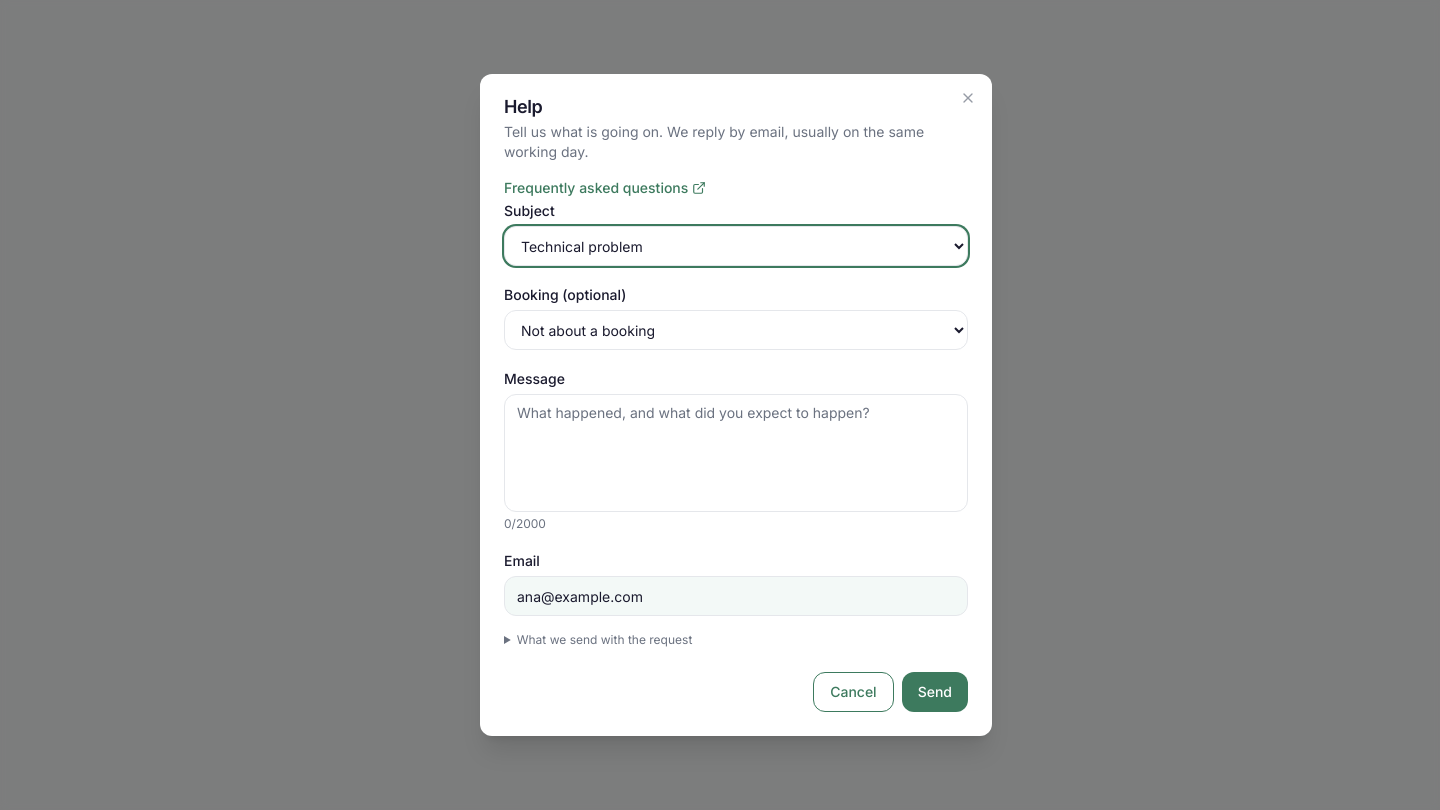
it: HelpDialog — in English (B65) › renders the English form, validation, booking list and confirmation without Portuguese
expect the text "Tell us what is going on" is shown: met, box [504,123,924,160]
Click the button "Send" at (935, 692), box [902,672,968,712]
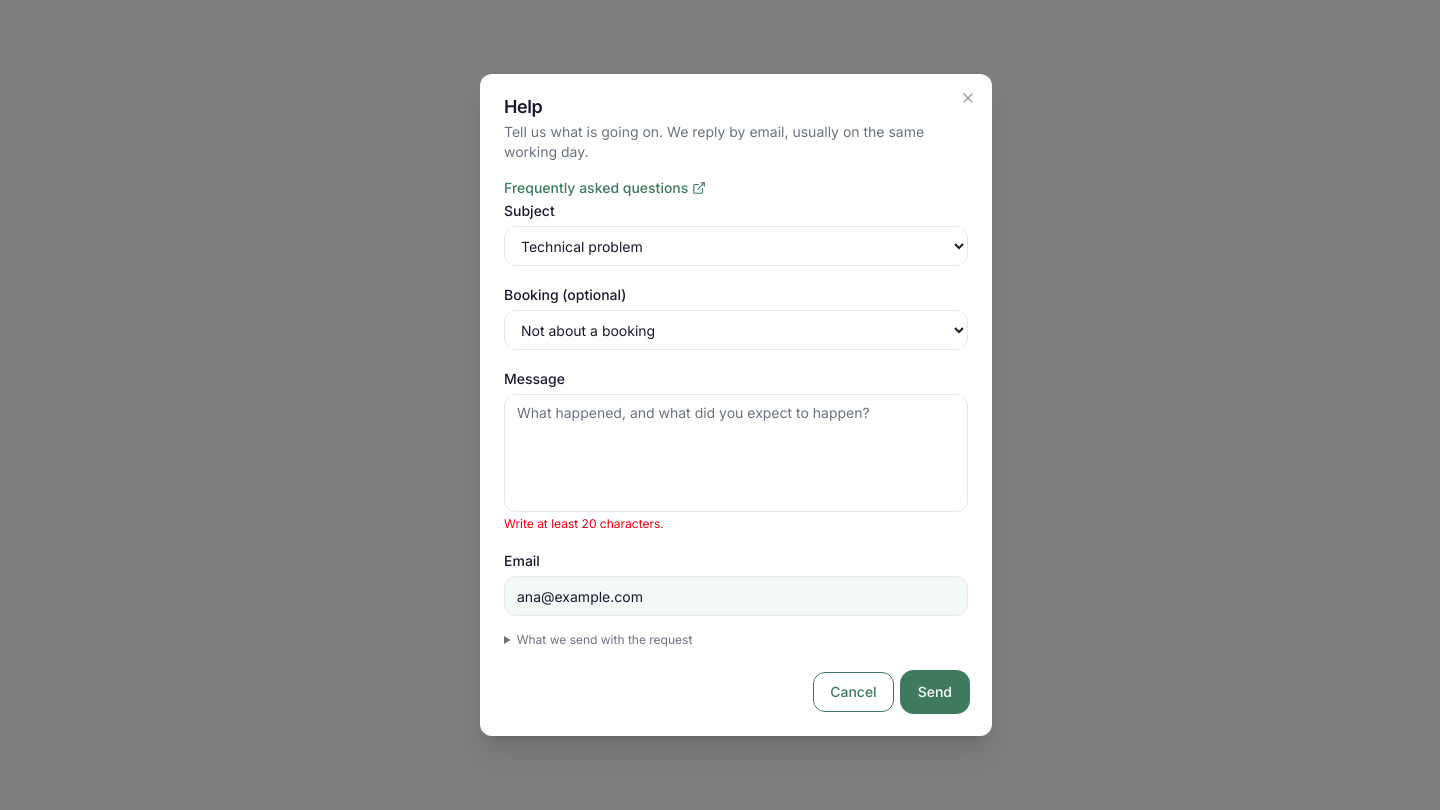
expect the message reads "Write at least 20 characters.": met, box [504,516,664,531]
Click the heading "What we send with the request" at (604, 640), box [517,632,692,647]
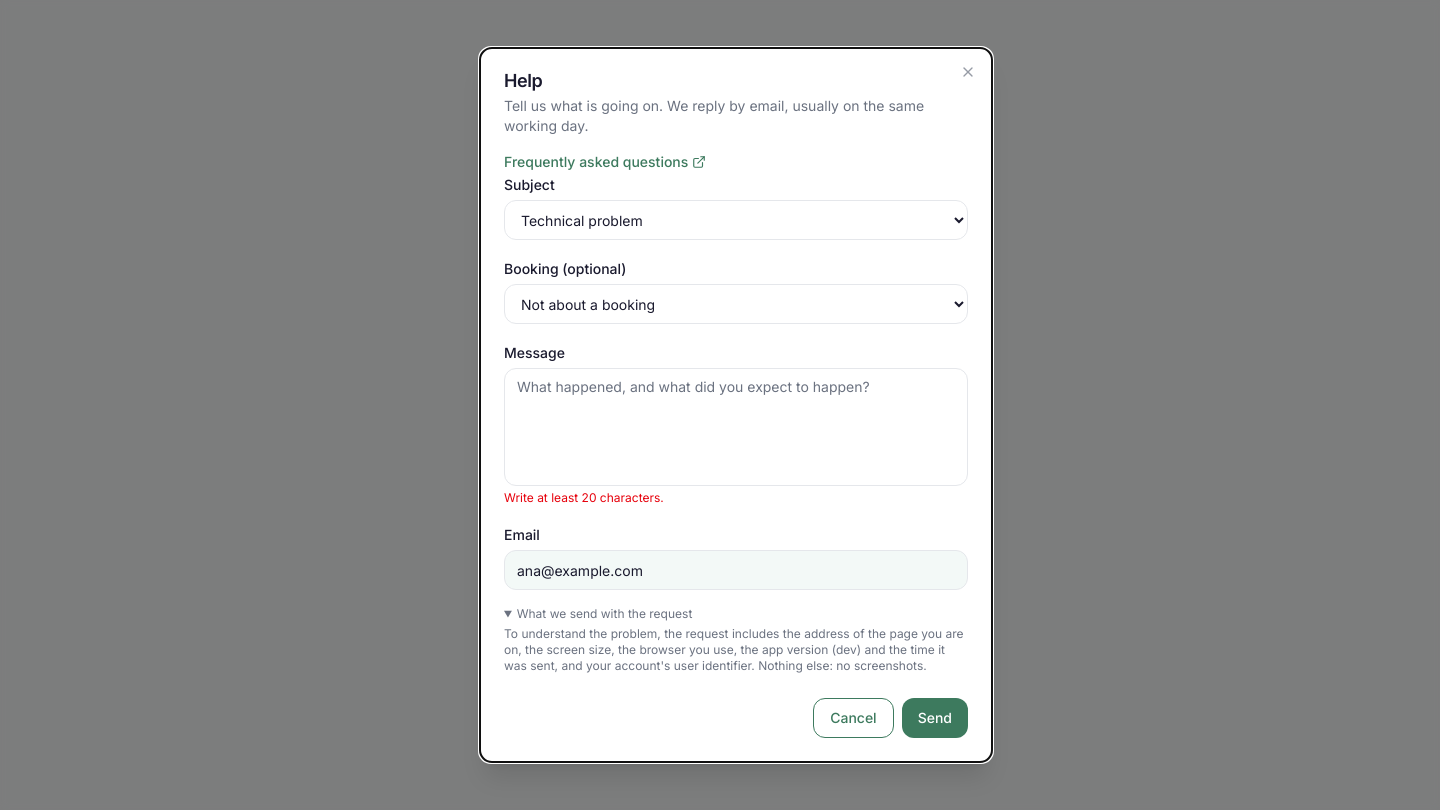
expect the text "What we send with the request" shows "the app version (dev) and the time it was sent, and your account's user identifier. Nothing else": met, box [504,626,964,673]
Type "O botão de pagamento não faz nada quando clico, já tentei duas vezes." into the text box labelled "Message" at (736, 427), box [504,368,968,486]
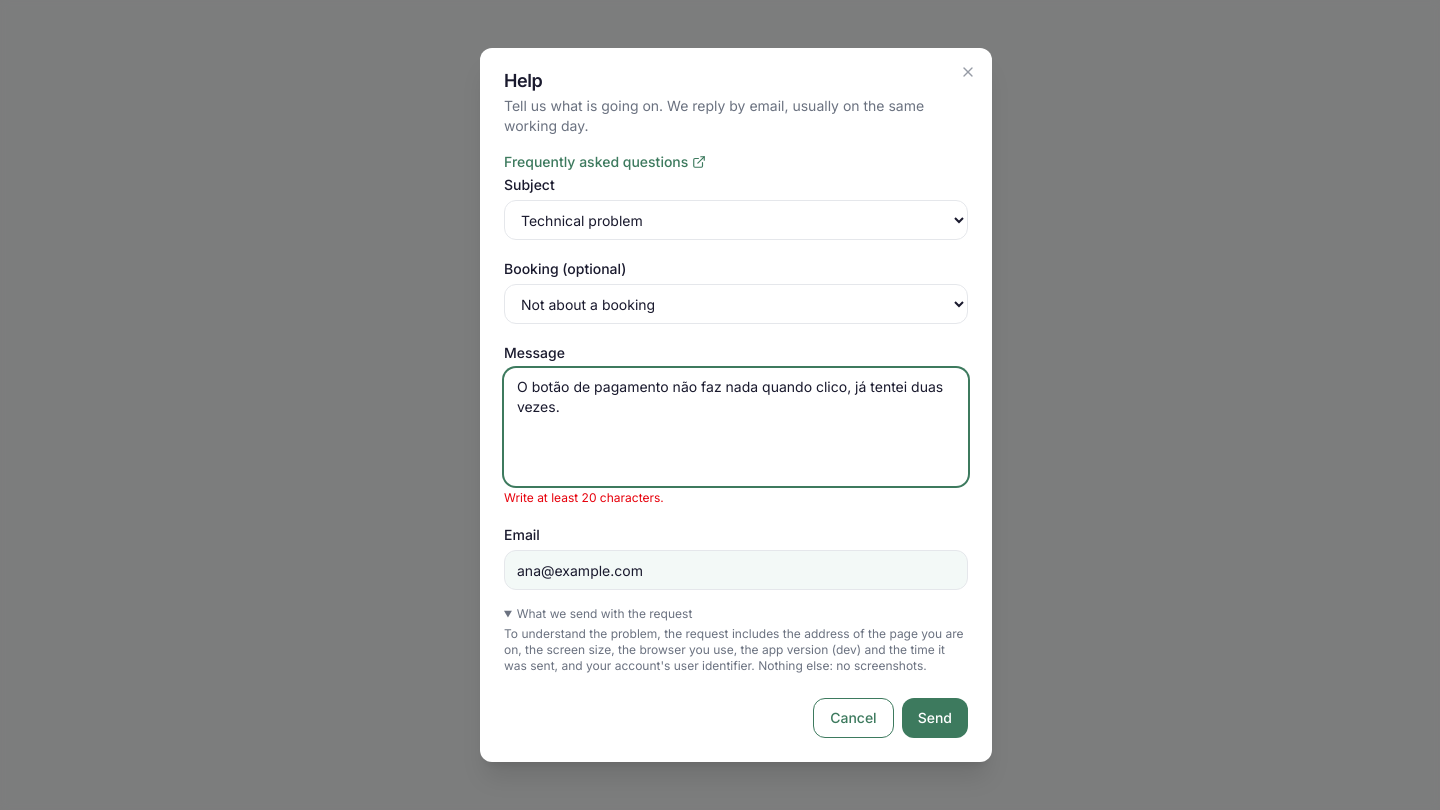
Click the button "Send" at (935, 718), box [902,698,968,738]
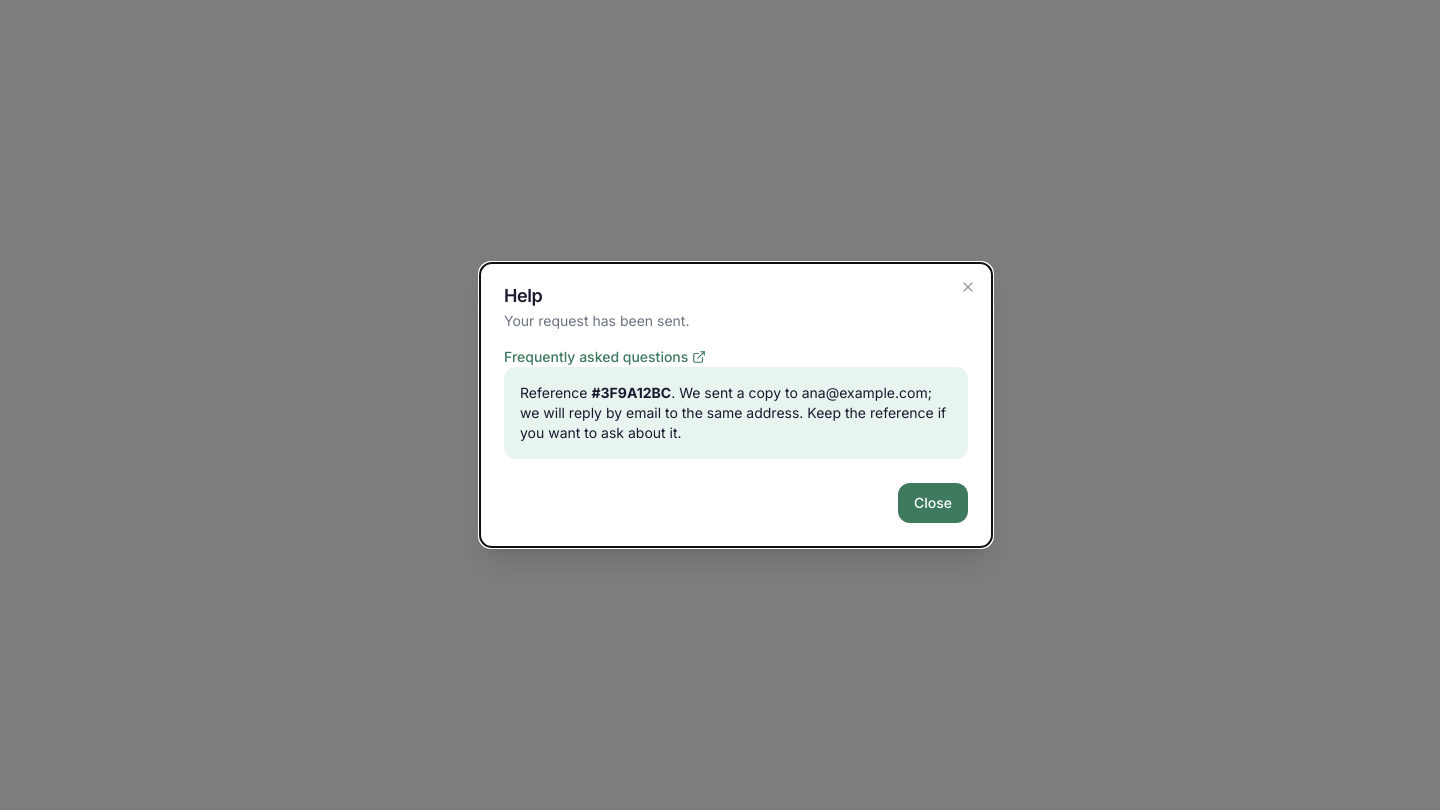
expect the message shows "Reference #3F9A12BC. We sent a copy to ana@example.com; we will reply by email to the same address.": met, box [504,367,968,459]
